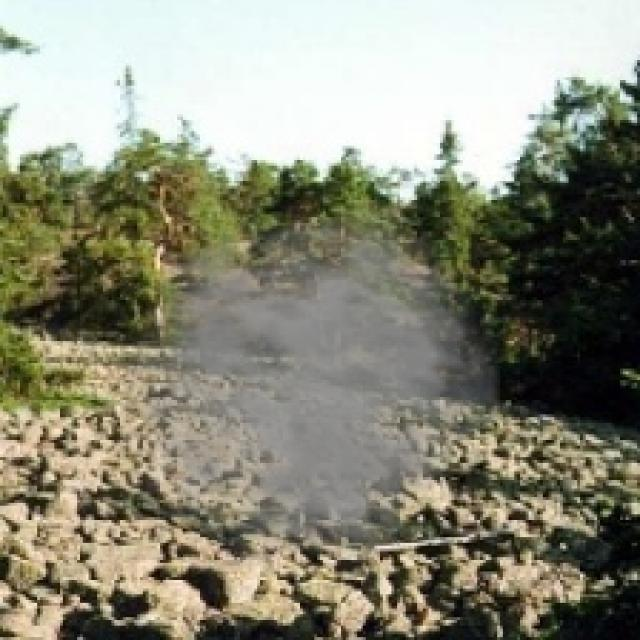Smoke: (88, 200, 503, 586)
